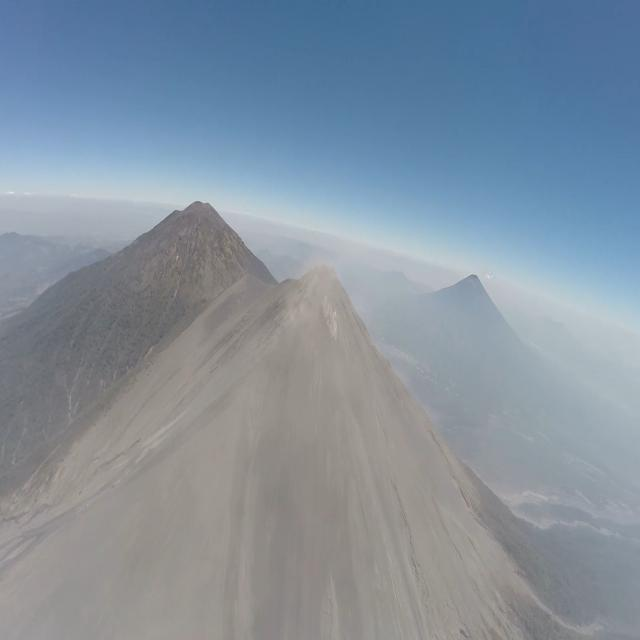Summit: (279, 256, 374, 344)
